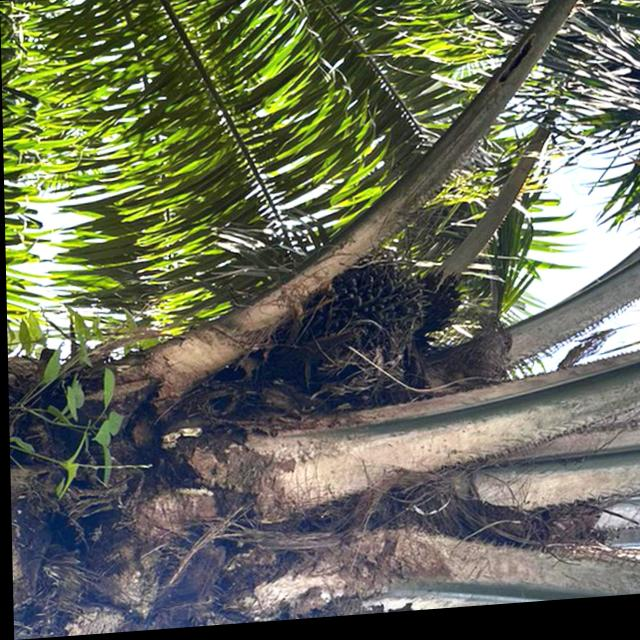ripe: (301, 250, 435, 377)
